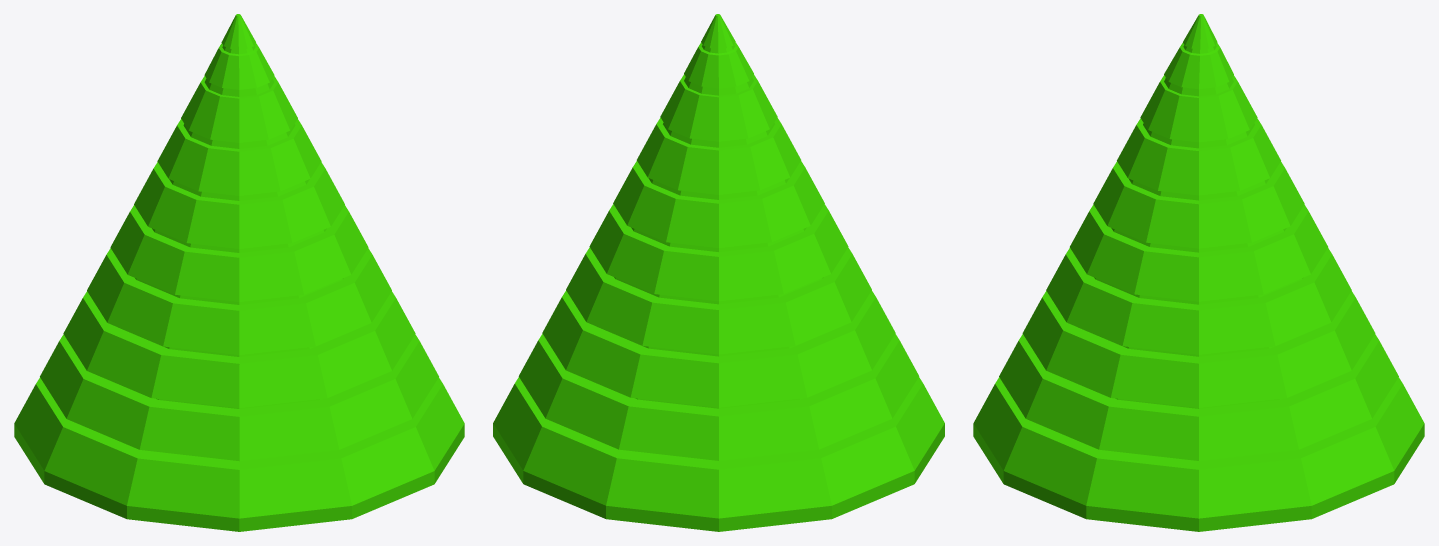
Rendered from Taladro.fbx.
3 views of the same model, side by side, from view 1: azimuth 30°, elevation 25°; view 2: azimuth 150°, elevation 25°; view 3: azimuth 270°, elevation 25° (orthographic).
Visible parts, largest first — view 1: Taladro.002; view 2: Taladro.002; view 3: Taladro.002.
Part boxes in pixels (left/top/right/bottom): Taladro.002: left=14, top=14, right=464, bottom=531; Taladro.002: left=493, top=14, right=944, bottom=531; Taladro.002: left=973, top=14, right=1424, bottom=531.
Bounding box in the file's own units: 332 × 391 × 332.
